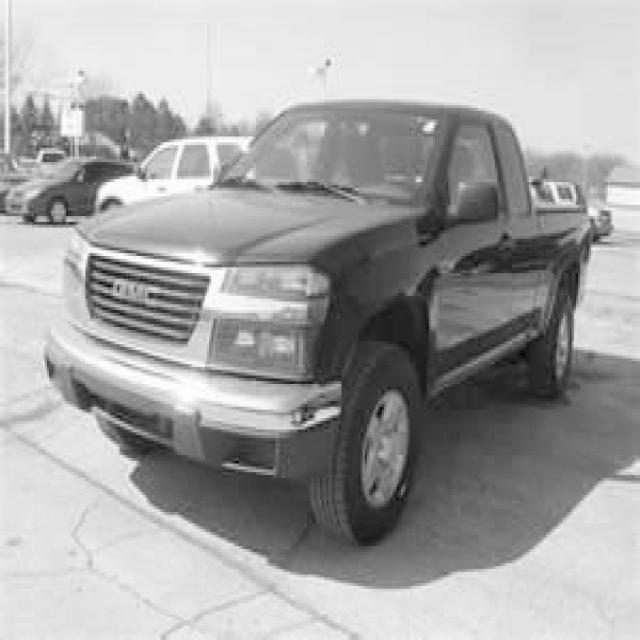car: (43, 97, 593, 546)
